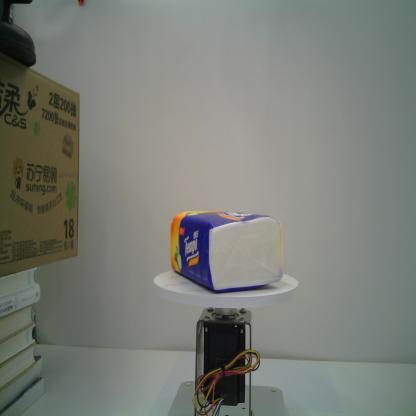Tissue: (167, 206, 288, 295)
